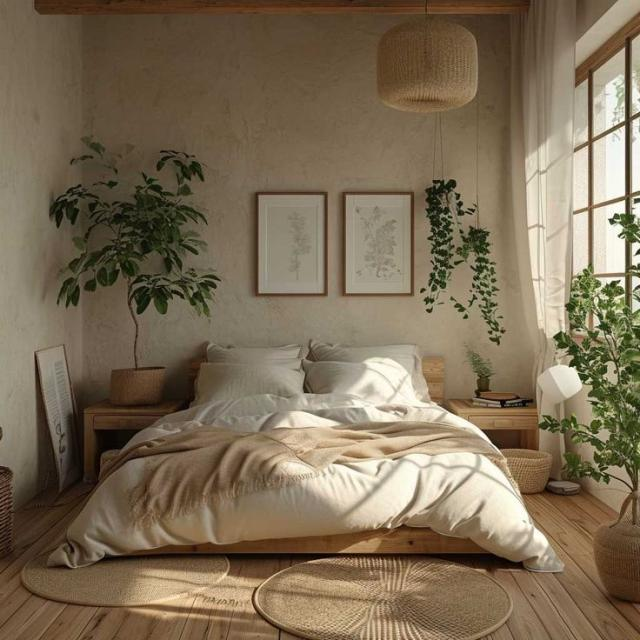obstacle: (48, 347, 564, 572), (82, 396, 186, 484), (447, 398, 539, 450)
